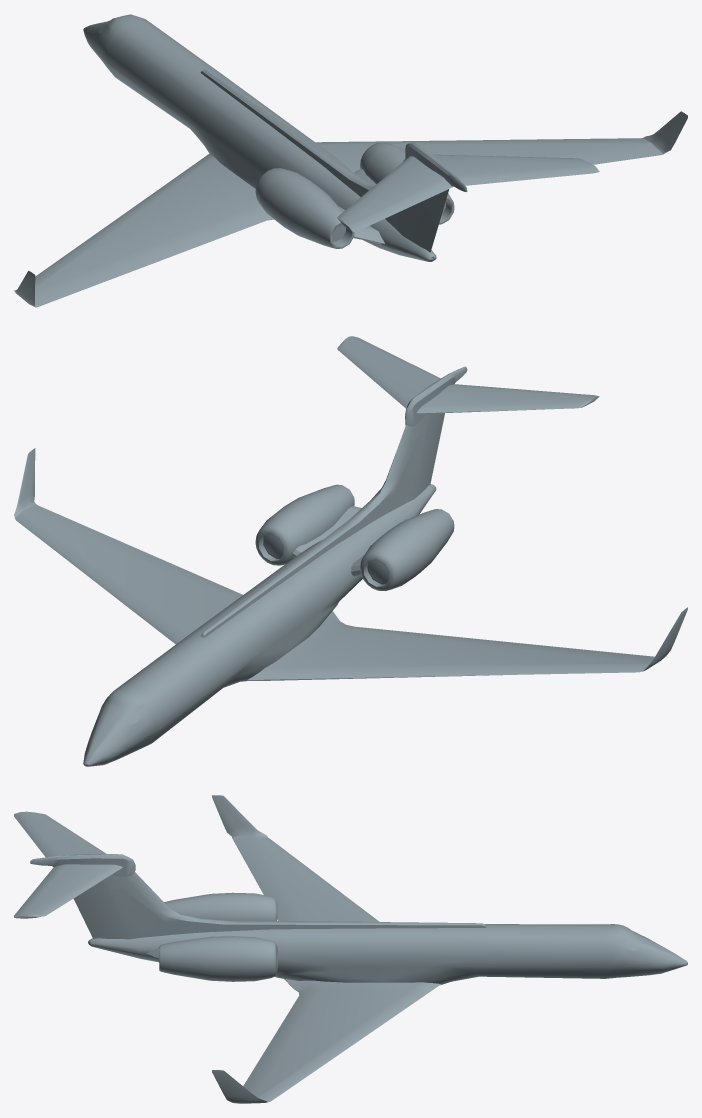
File: model-aircraft-rr-1.glb
The picture shows the model from 3 angles, top to bottom: view 1: azimuth 30°, elevation 25°; view 2: azimuth 150°, elevation 25°; view 3: azimuth 270°, elevation 25°; orthographic projection. The views are drawn at different scales.
Size of the model in its own units: 37.79 by 8.47 by 39.18.
